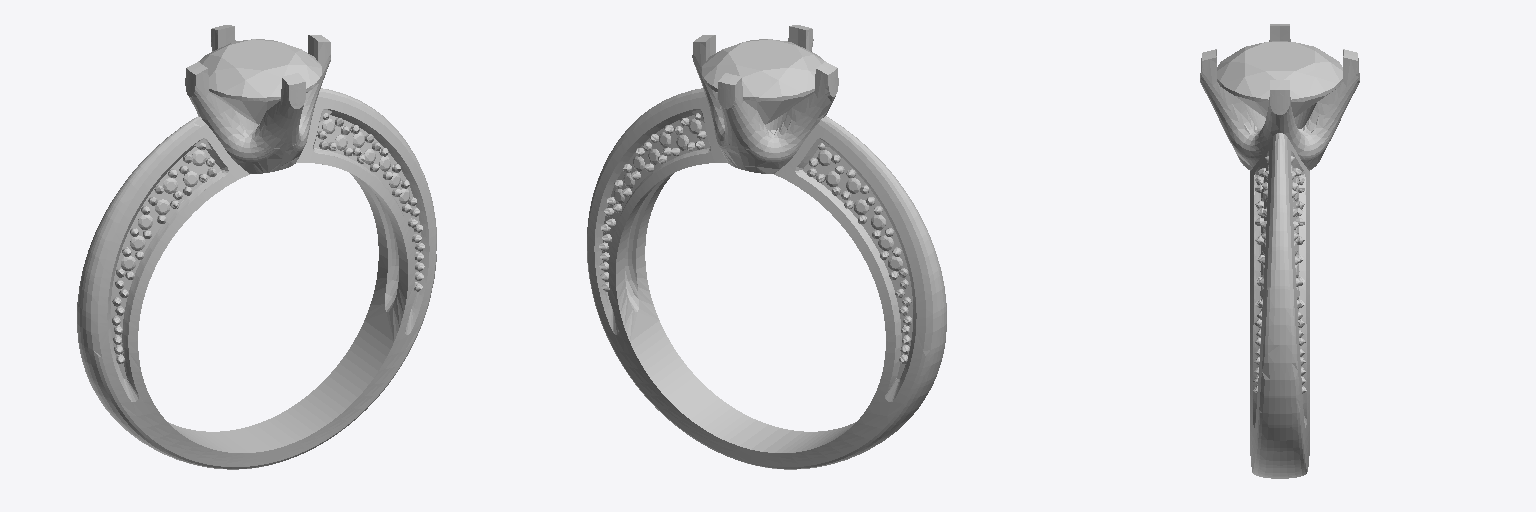
The model's file is objfile.obj.
3 views of the same model, side by side, from view 1: azimuth 30°, elevation 25°; view 2: azimuth 150°, elevation 25°; view 3: azimuth 270°, elevation 25° (orthographic).
Bounding box in the file's own units: 25.42 × 28.12 × 10.